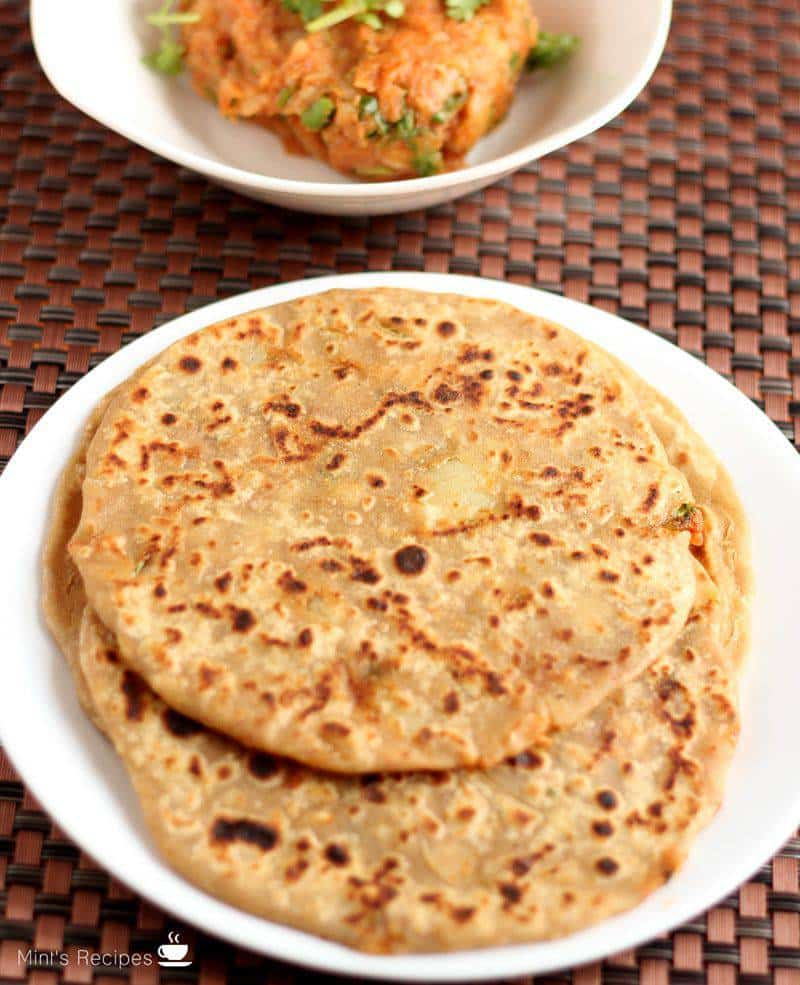aloo_paratha: (51, 294, 735, 949)
